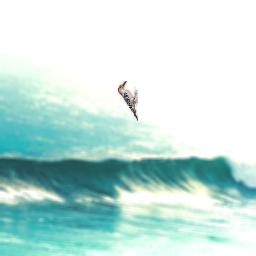Woodpecker: (118, 81, 138, 121)
